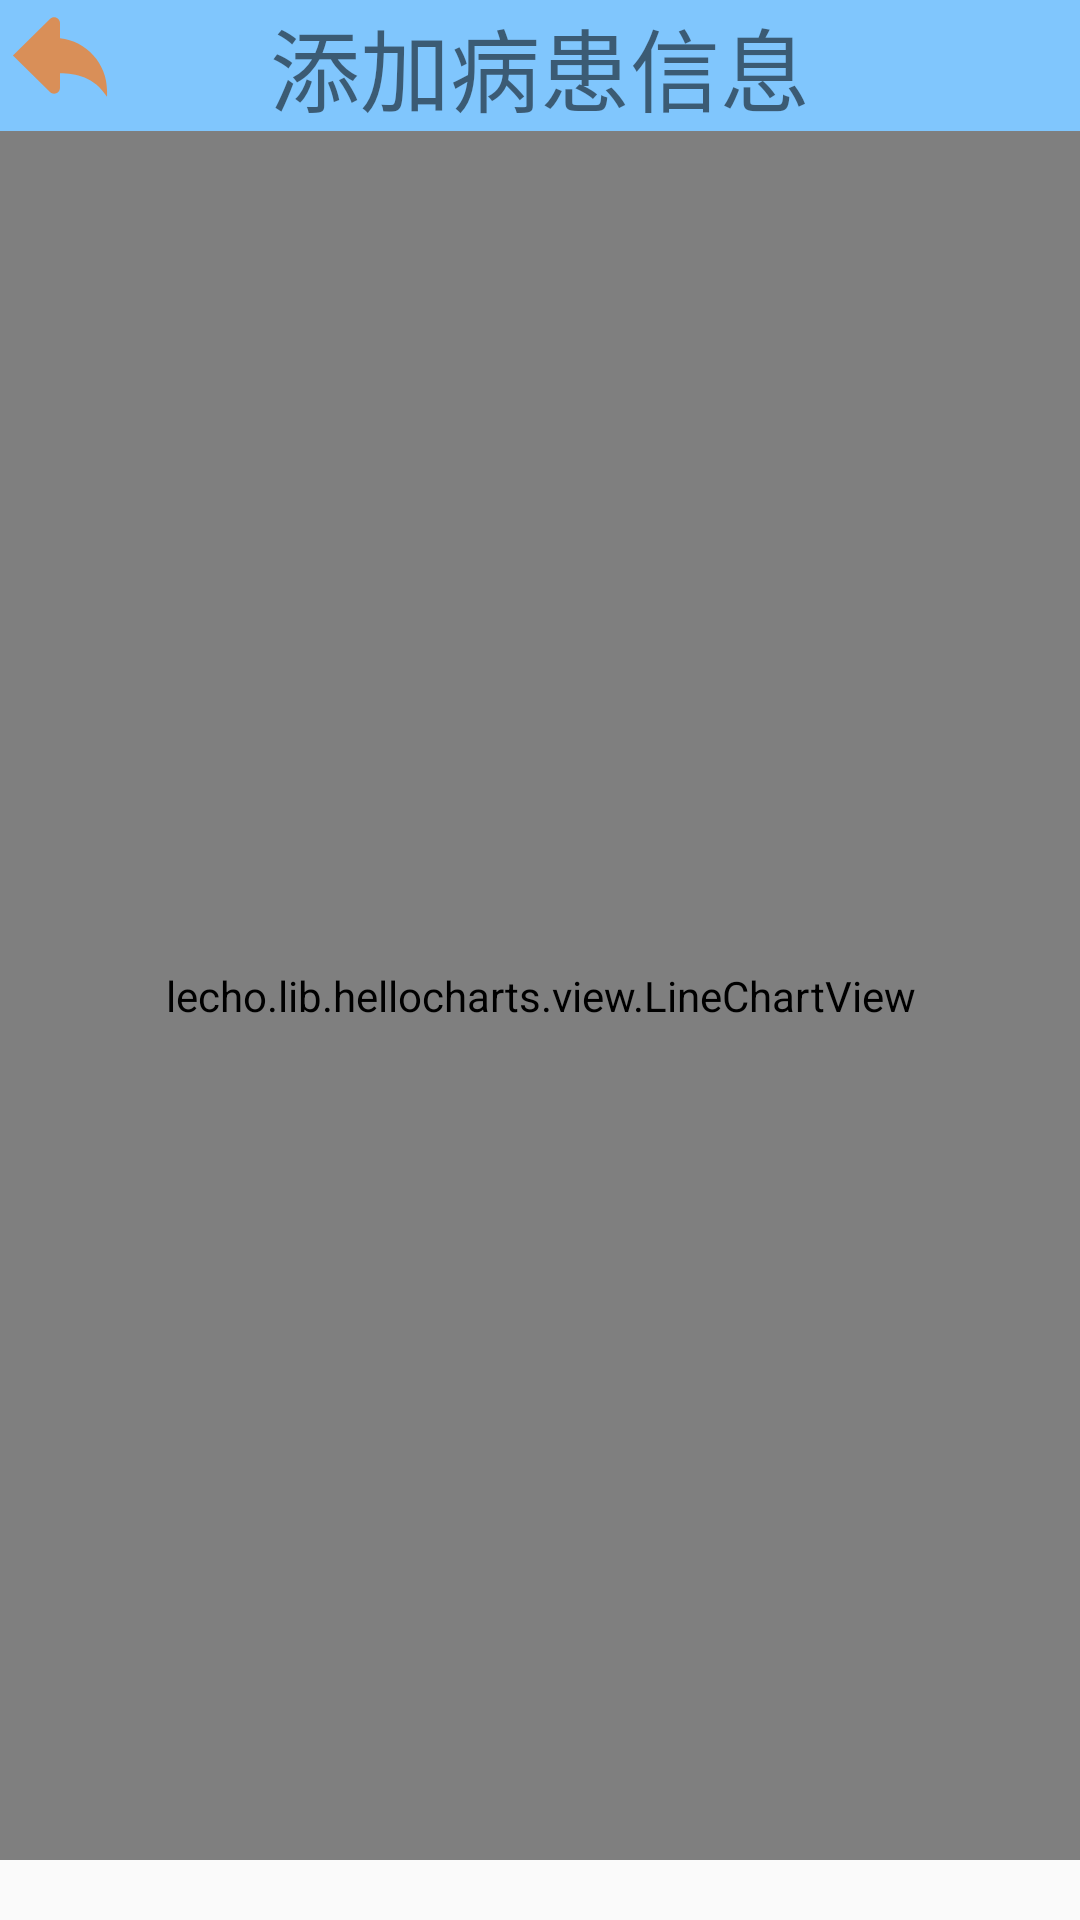

Named icons in this screenshot (1080 × 1920) and their centers, (x=x, y=y):
back: (x=60, y=57)
